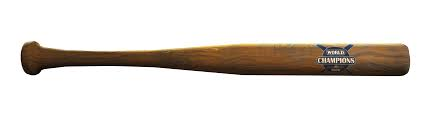bat: (21, 41, 411, 77)
